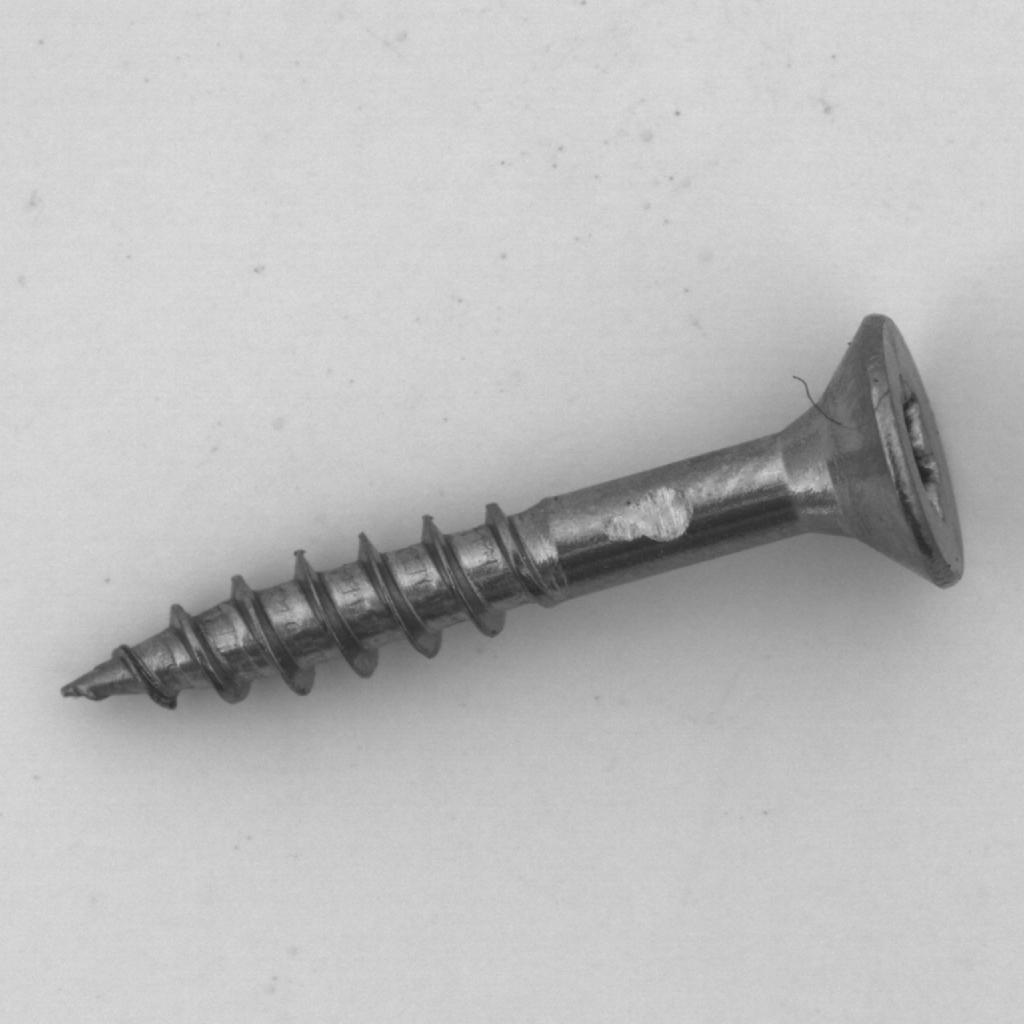scratch_neck: (39, 298, 979, 747)
